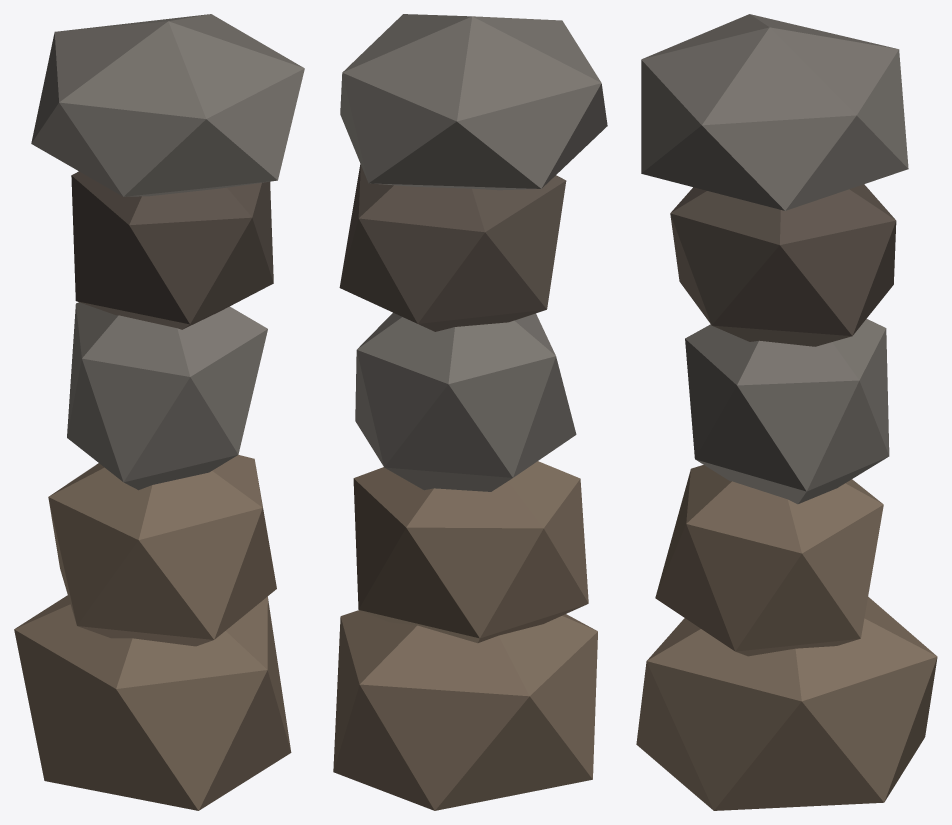
The model's file is mine_rock_pillar.glb.
3 renders of one model, left to right at view 1: azimuth 30°, elevation 25°; view 2: azimuth 150°, elevation 25°; view 3: azimuth 270°, elevation 25°, orthographic.
Parts seen in each view (by area): view 1: mine_rock_pillar; view 2: mine_rock_pillar; view 3: mine_rock_pillar.
Boxes of the visible parts, <box> form: mine_rock_pillar: <box>14,14,304,810</box>; mine_rock_pillar: <box>333,14,607,810</box>; mine_rock_pillar: <box>636,14,937,810</box>.
Size of what is drawn, in the model's own units: 1.32 by 3.98 by 1.4.
